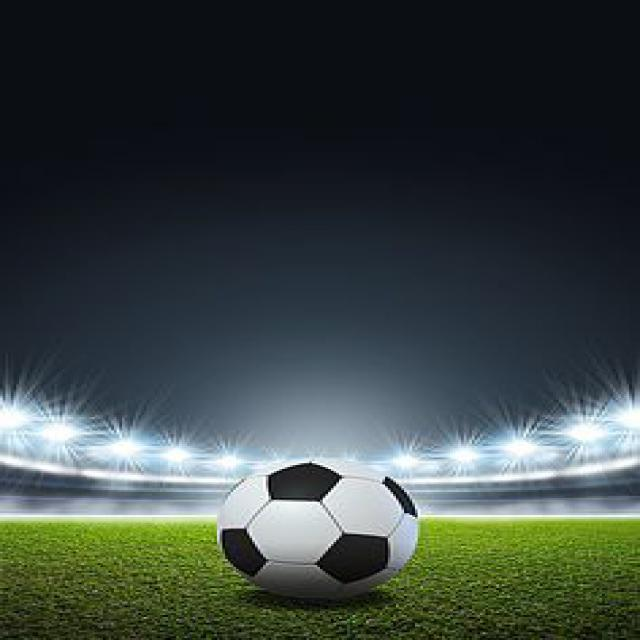ball: (213, 451, 424, 607)
